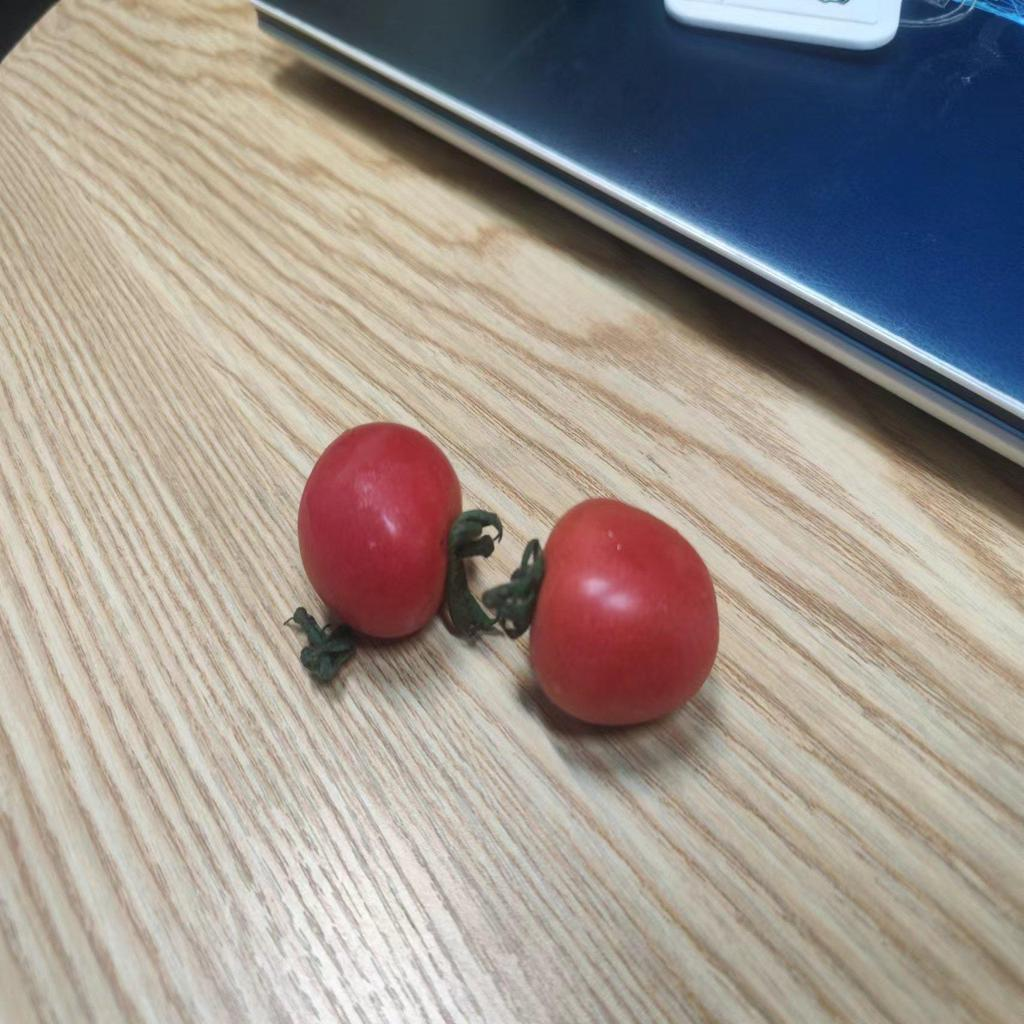tomato: (525, 500, 720, 730), (304, 428, 460, 632)
